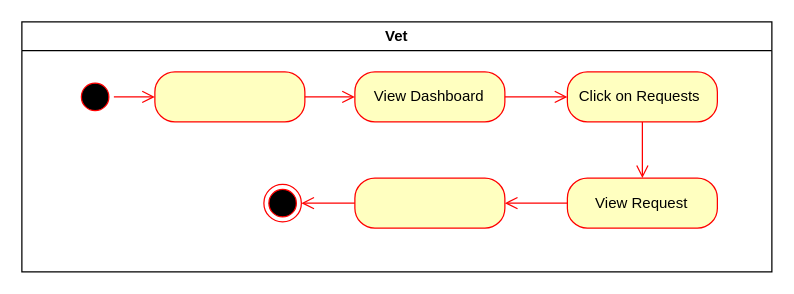
The diagram is 794 pixels wide and 294 high, and some of its shapes have lost their labels. The shapes that lost their labels are listed below. From the top down, each one's centre as x and y in pixels, then its label:
At [229,96]: "Login".
At [429,202]: "Accept/Reject Appointment".
